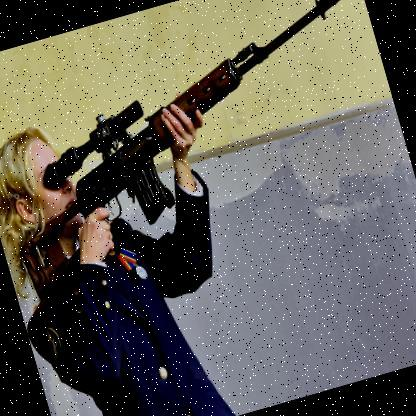rifle: (0, 0, 411, 309)
